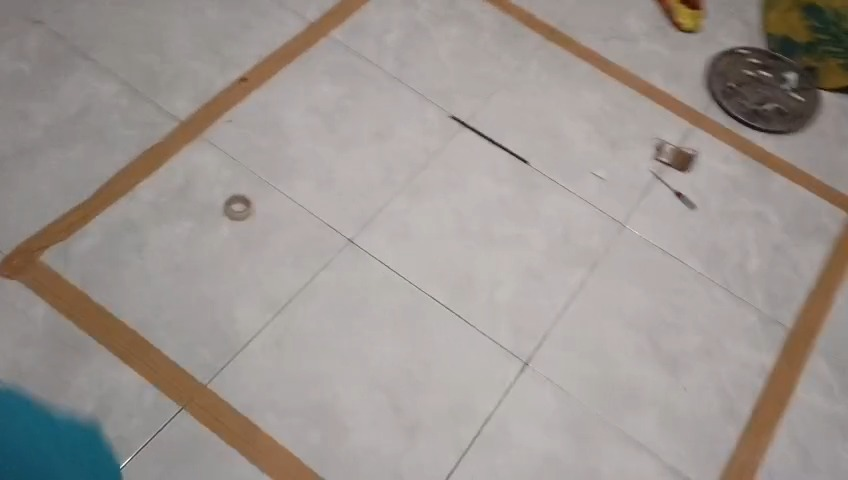floor marking: (0, 0, 366, 475), (486, 0, 847, 211), (722, 223, 847, 479)
